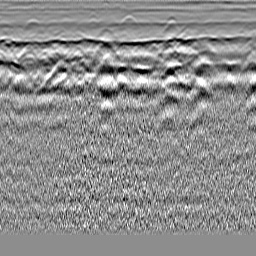cavity: (120, 14, 137, 27)
